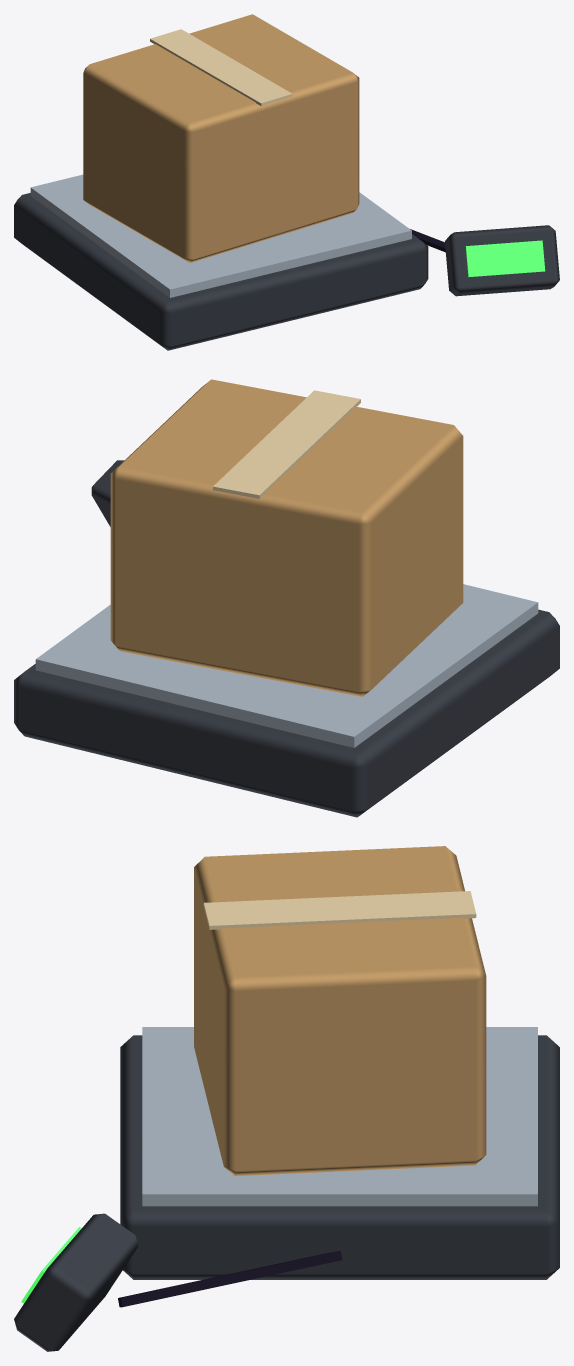
File: station_transport_ausstattung_2_1.glb
The picture shows the model from 3 angles, top to bottom: view 1: azimuth 30°, elevation 25°; view 2: azimuth 150°, elevation 25°; view 3: azimuth 270°, elevation 25°; orthographic projection. The views are drawn at different scales.
Visible parts, largest first — view 1: station_transport_ausstattung_2_1; view 2: station_transport_ausstattung_2_1; view 3: station_transport_ausstattung_2_1.
Part boxes in pixels (<box>): station_transport_ausstattung_2_1: <box>14,14,559,350</box>; station_transport_ausstattung_2_1: <box>14,379,559,817</box>; station_transport_ausstattung_2_1: <box>14,846,559,1351</box>.
Bounding box in the file's own units: 0.5563 × 0.2881 × 0.4966.
